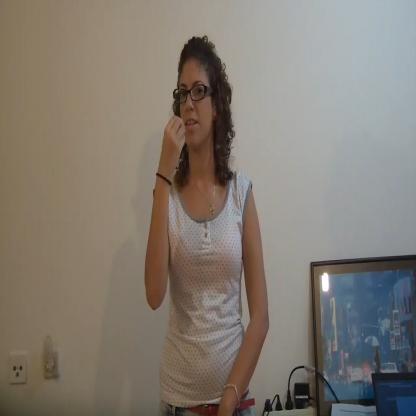Food: (139, 18, 237, 226)
